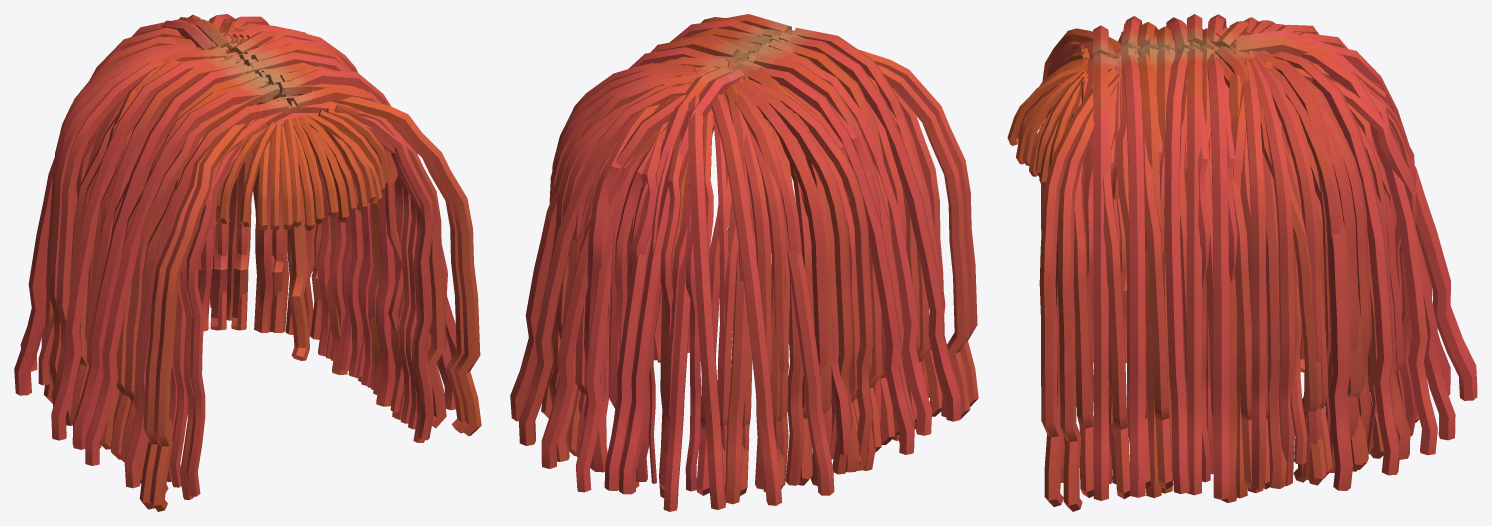
The model's file is Leeloo.glb.
The picture shows the model from 3 angles, left to right: view 1: azimuth 30°, elevation 25°; view 2: azimuth 150°, elevation 25°; view 3: azimuth 270°, elevation 25°; orthographic projection. The views are drawn at different scales.
Parts seen in each view (by area): view 1: Leeloo; view 2: Leeloo; view 3: Leeloo.
Boxes of the visible parts, <box> form: Leeloo: <box>14,14,481,511</box>; Leeloo: <box>510,14,978,511</box>; Leeloo: <box>1007,14,1477,511</box>.
Bounding box in the file's own units: 1.21 × 1.15 × 1.24.
1 material, 1 textured.
